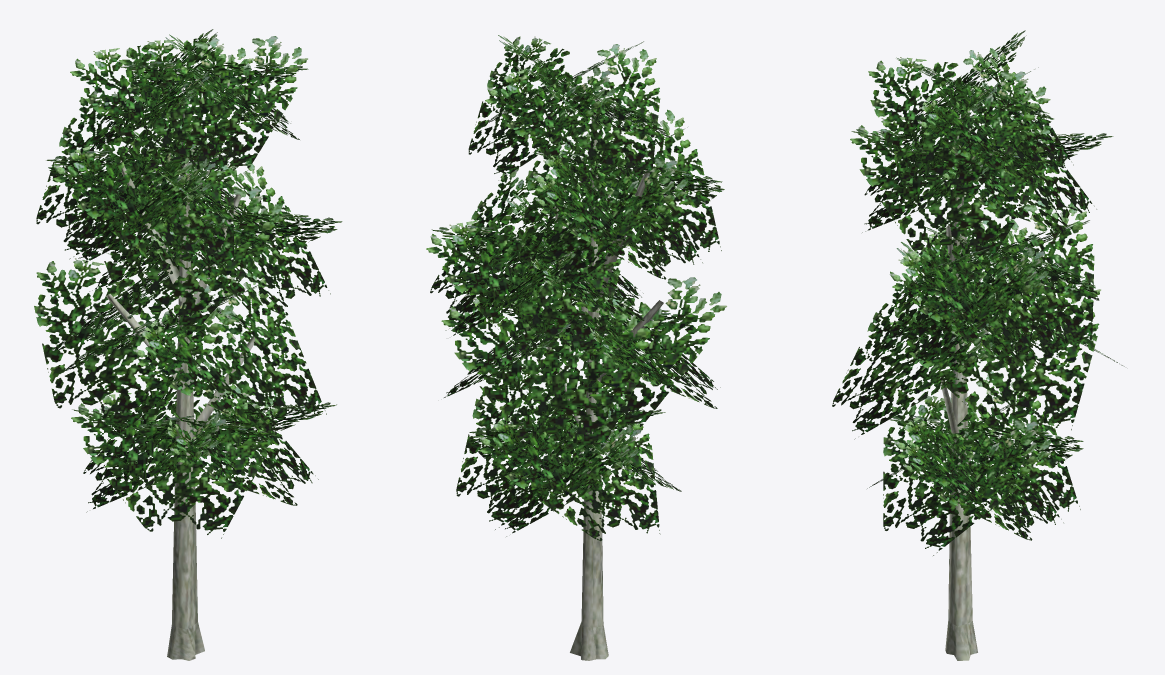
The model's file is 0ad-ancient.e6baf49b607c.beech.glb.
The picture shows the model from 3 angles, left to right: view 1: azimuth 30°, elevation 25°; view 2: azimuth 150°, elevation 25°; view 3: azimuth 270°, elevation 25°; orthographic projection.
Visible parts, largest first — view 1: flora/trees/european_beech.xml; view 2: flora/trees/european_beech.xml; view 3: flora/trees/european_beech.xml.
Part boxes in pixels (<box>): flora/trees/european_beech.xml: <box>34,29,342,660</box>; flora/trees/european_beech.xml: <box>426,35,726,660</box>; flora/trees/european_beech.xml: <box>832,30,1124,660</box>.
Size of the model in its own units: 10.16 by 19.4 by 10.39.
1 material, 1 textured.
